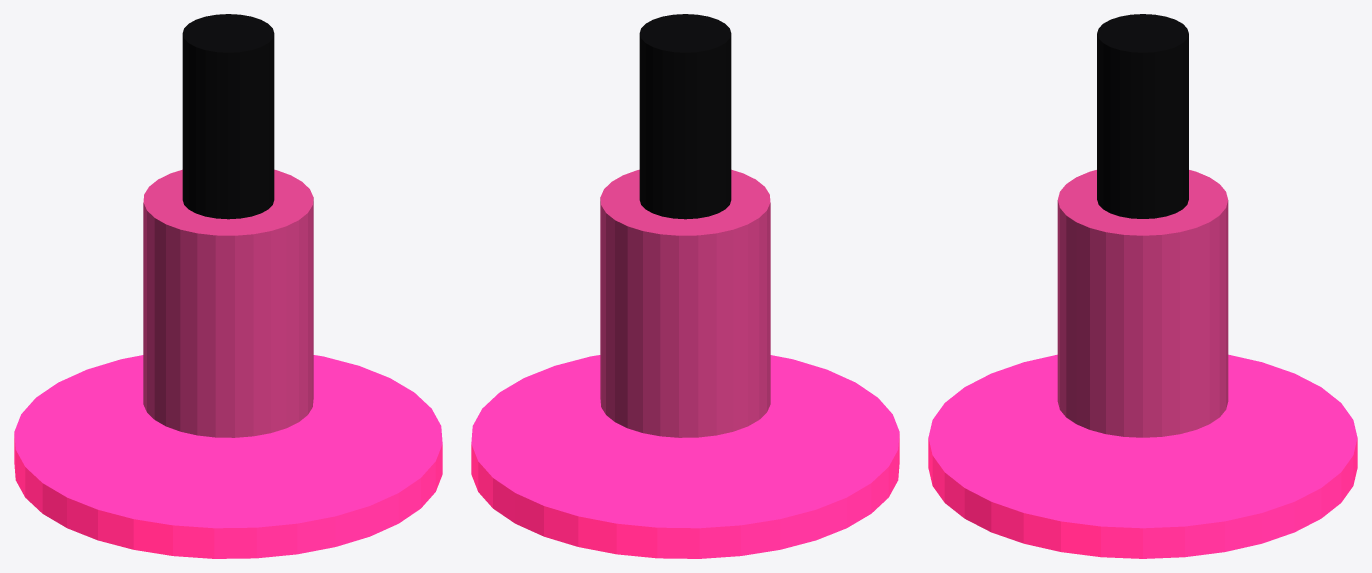
File: beauty_nail_polish.dae
The picture shows the model from 3 angles, left to right: view 1: azimuth 30°, elevation 25°; view 2: azimuth 150°, elevation 25°; view 3: azimuth 270°, elevation 25°; orthographic projection.
Parts seen in each view (by area): view 1: 03_05_Popular_Beauty_Nail_Polish_ROOT_base, 03_05_Popular_Beauty_Nail_Polish_part_01, 03_05_Popular_Beauty_Nail_Polish_part_02; view 2: 03_05_Popular_Beauty_Nail_Polish_ROOT_base, 03_05_Popular_Beauty_Nail_Polish_part_01, 03_05_Popular_Beauty_Nail_Polish_part_02; view 3: 03_05_Popular_Beauty_Nail_Polish_ROOT_base, 03_05_Popular_Beauty_Nail_Polish_part_01, 03_05_Popular_Beauty_Nail_Polish_part_02.
Boxes of the visible parts, left/top/right/bottom form: 03_05_Popular_Beauty_Nail_Polish_ROOT_base: left=14, top=355, right=442, bottom=558; 03_05_Popular_Beauty_Nail_Polish_part_01: left=143, top=169, right=313, bottom=437; 03_05_Popular_Beauty_Nail_Polish_part_02: left=182, top=14, right=274, bottom=219; 03_05_Popular_Beauty_Nail_Polish_ROOT_base: left=471, top=355, right=899, bottom=558; 03_05_Popular_Beauty_Nail_Polish_part_01: left=600, top=169, right=770, bottom=437; 03_05_Popular_Beauty_Nail_Polish_part_02: left=639, top=14, right=731, bottom=219; 03_05_Popular_Beauty_Nail_Polish_ROOT_base: left=928, top=354, right=1357, bottom=558; 03_05_Popular_Beauty_Nail_Polish_part_01: left=1057, top=170, right=1228, bottom=437; 03_05_Popular_Beauty_Nail_Polish_part_02: left=1097, top=14, right=1188, bottom=218.
Size of the model in its own units: 0.76 by 0.85 by 0.76.
